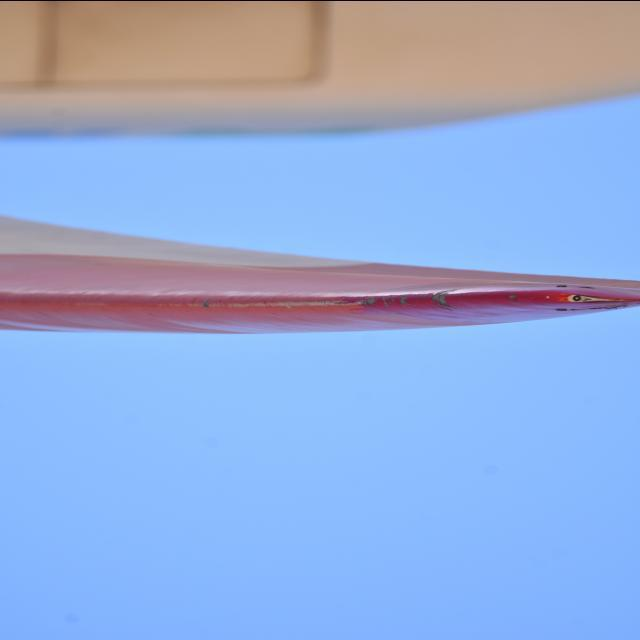Coating_defects: (565, 289, 619, 309), (426, 287, 458, 314)
EROSION: (210, 302, 377, 323)
